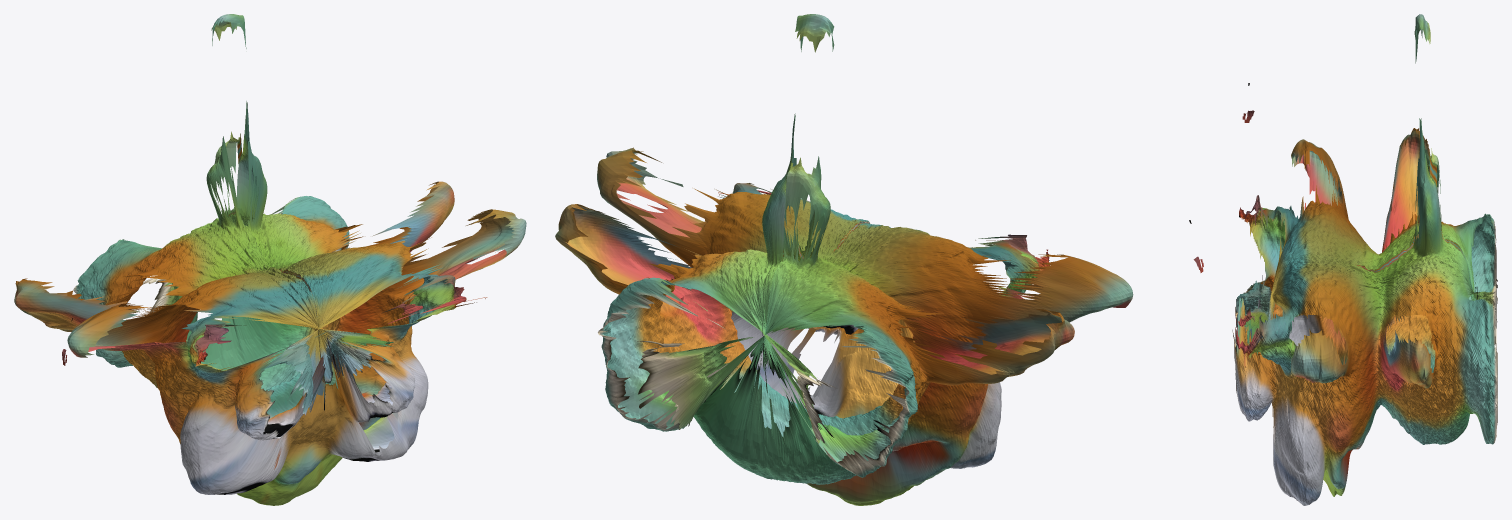
3 renders of one model, left to right at view 1: azimuth 30°, elevation 25°; view 2: azimuth 150°, elevation 25°; view 3: azimuth 270°, elevation 25°, orthographic. The views are drawn at different scales.
Visible parts, largest first — view 1: geometry_0; view 2: geometry_0; view 3: geometry_0.
Part boxes in pixels (x1,y1,x2,y2): geometry_0: (14, 14, 526, 505); geometry_0: (555, 14, 1203, 505); geometry_0: (1232, 14, 1497, 505).
Size of the model in its own units: 1.81 by 1.63 by 0.8366.
1 material, 1 textured.
